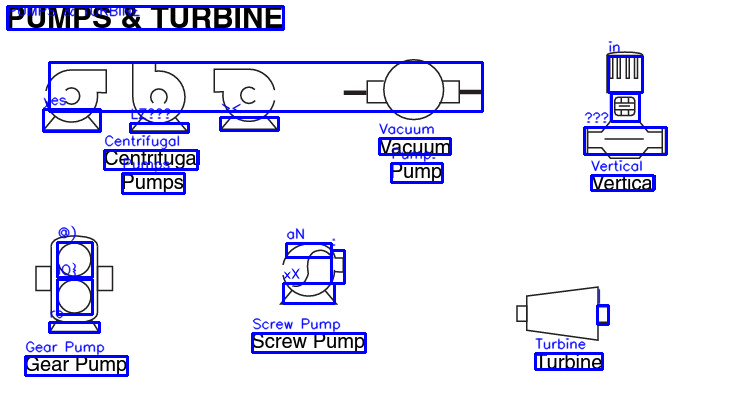Bomba: (339, 56, 489, 125), (579, 48, 668, 162), (32, 233, 116, 334), (36, 64, 109, 136), (275, 238, 348, 308), (125, 58, 191, 135), (212, 64, 278, 132)
Turbina: (511, 282, 612, 345)
